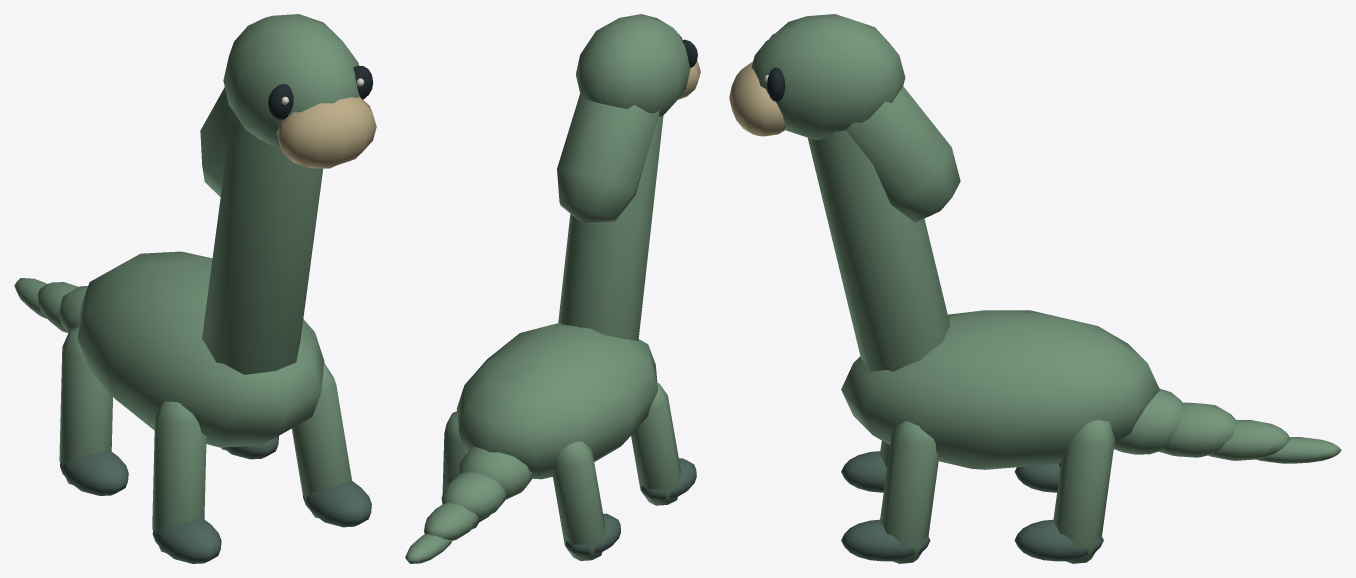
Rendered from org_camarasaurus.glb.
The picture shows the model from 3 angles, left to right: view 1: azimuth 30°, elevation 25°; view 2: azimuth 150°, elevation 25°; view 3: azimuth 270°, elevation 25°; orthographic projection. The views are drawn at different scales.
Visible parts, largest first — view 1: Body, Head, Leg_FR, Leg_BR, Leg_FL, Tail, Eye_R, Leg_BL, Eye_L; view 2: Body, Head, Tail, Leg_BR, Leg_FR, Leg_BL; view 3: Body, Head, Tail, Leg_BL, Leg_FL, Leg_FR, Leg_BR.
Part boxes in pixels (x1,y1,x2,y2): Body: [77, 123, 324, 447]; Head: [200, 14, 376, 196]; Leg_FR: [152, 401, 221, 563]; Leg_BR: [59, 326, 128, 495]; Leg_FL: [292, 363, 371, 527]; Tail: [14, 278, 87, 333]; Eye_R: [268, 84, 293, 119]; Leg_BL: [221, 436, 278, 459]; Eye_L: [353, 66, 373, 99]; Body: [456, 116, 663, 479]; Head: [557, 14, 700, 224]; Tail: [405, 447, 532, 563]; Leg_BR: [551, 441, 620, 560]; Leg_FR: [631, 382, 696, 505]; Leg_BL: [442, 411, 489, 529]; Body: [807, 130, 1159, 469]; Head: [729, 14, 960, 222]; Tail: [1113, 388, 1341, 463]; Leg_BL: [1014, 420, 1114, 563]; Leg_FL: [841, 421, 939, 563]; Leg_FR: [841, 441, 889, 492]; Leg_BR: [1014, 463, 1060, 492].
Size of the model in its own units: 0.9319 by 2.4 by 2.62.
